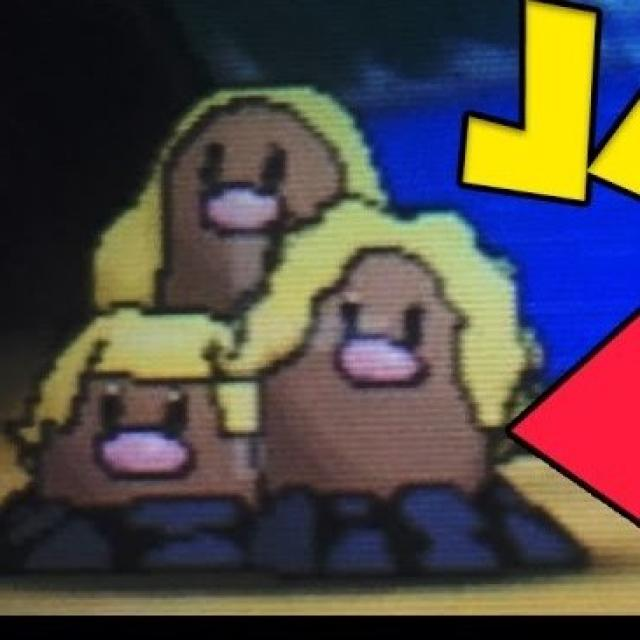Dugtrio: (28, 86, 503, 512)
